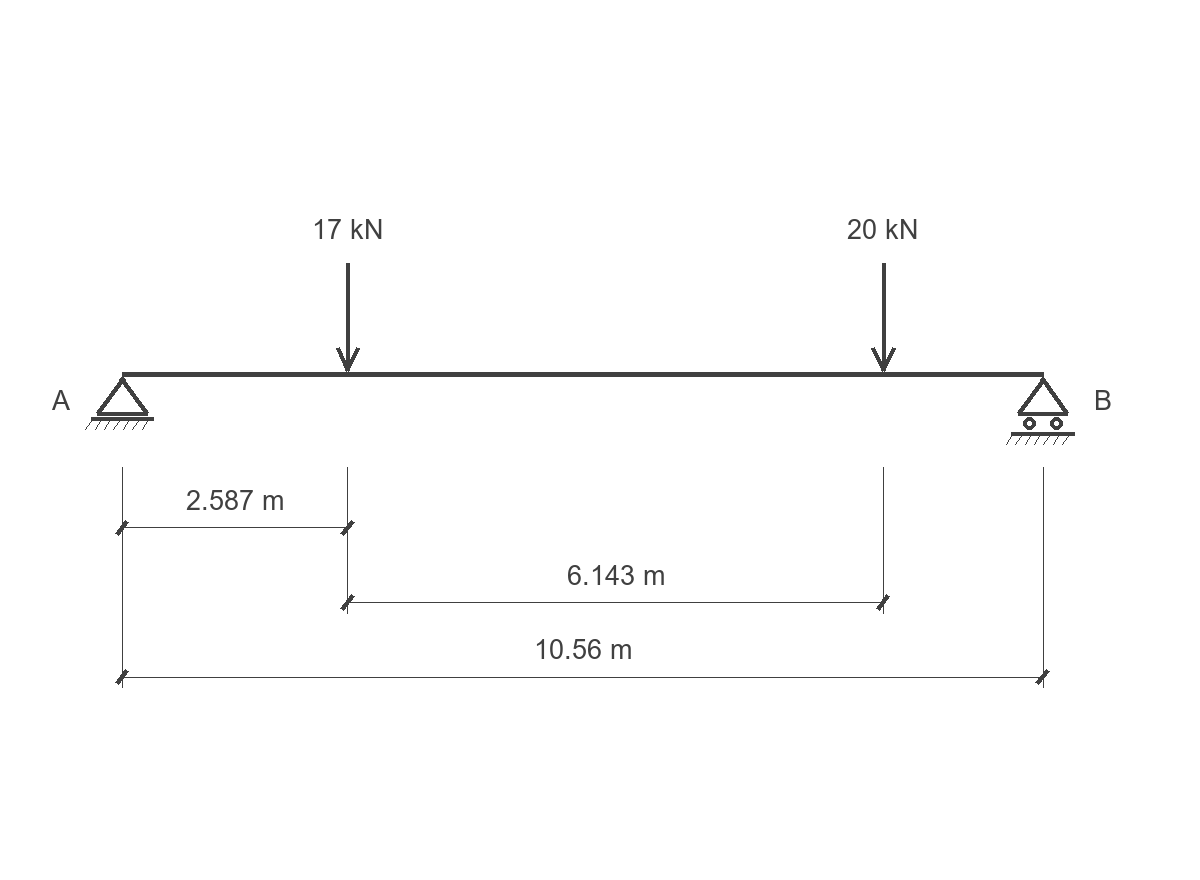pin_support: (85, 377, 154, 430)
point_load: (871, 263, 896, 372), (336, 263, 360, 372)
roller_support: (1006, 377, 1075, 445)
